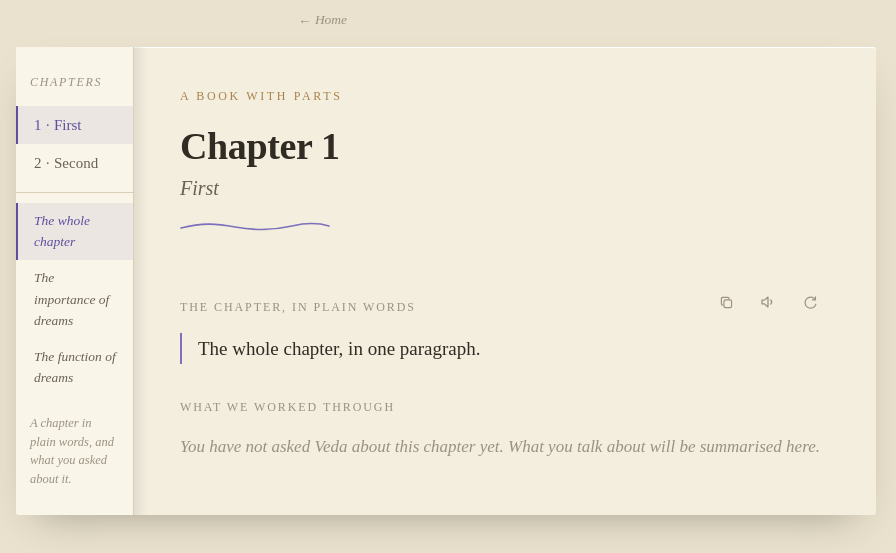
the second row of the rail › drops the part when the reader moves to another chapter
Click the button "The function of dreams".
click(74, 367)  # box x1=16 y1=339 x2=133 y2=396
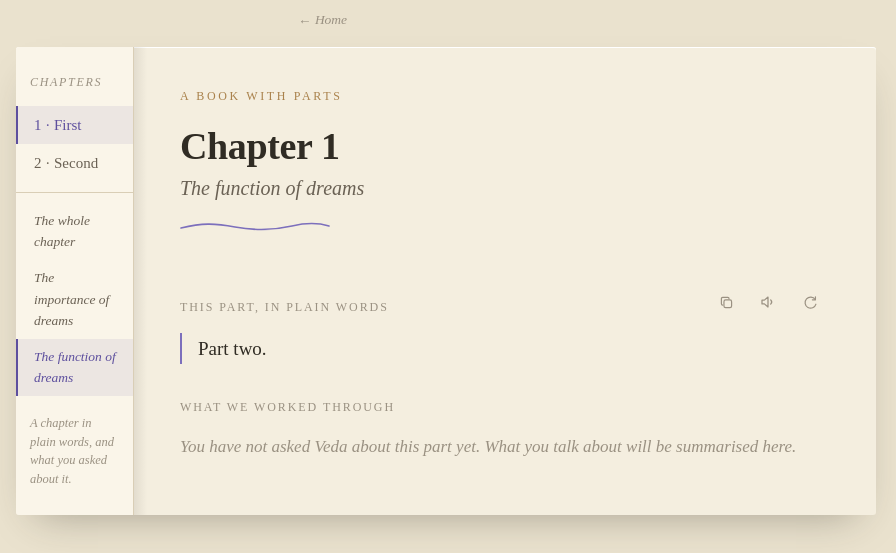
Click the button "2 · Second".
click(74, 163)  # box x1=16 y1=144 x2=133 y2=182
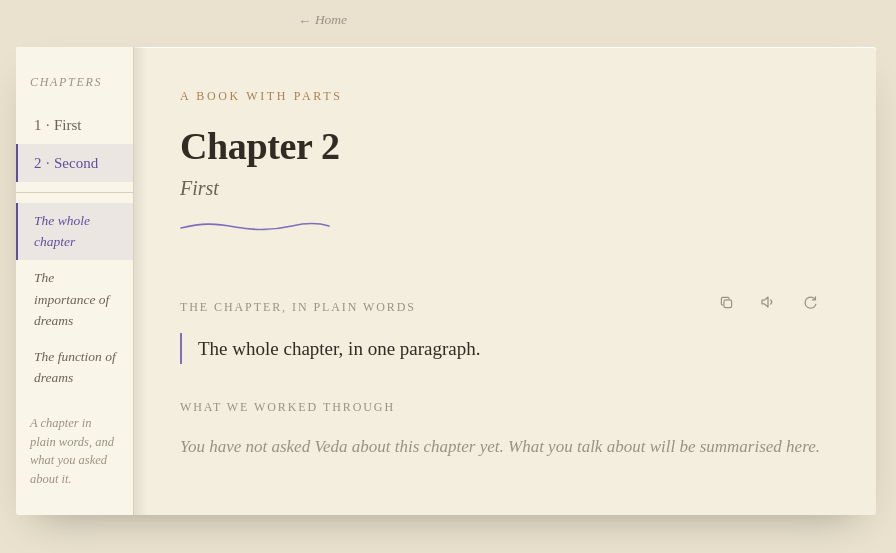
Expected: the text "The whole chapter, in one paragraph." is shown, x1=198 y1=338 x2=480 y2=359
